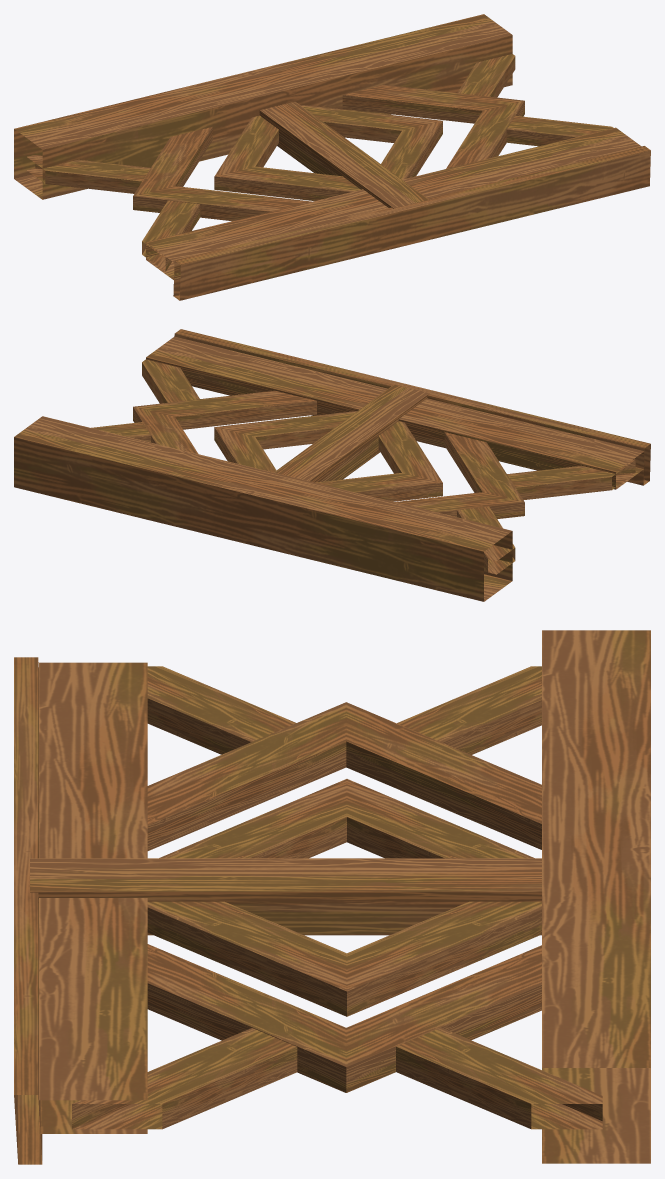
File: Balcony_Cross_Straight.fbx
3 renders of one model, top to bottom at view 1: azimuth 30°, elevation 25°; view 2: azimuth 150°, elevation 25°; view 3: azimuth 270°, elevation 25°, orthographic. The views are drawn at different scales.
Parts seen in each view (by area): view 1: Balcony_Cross_Straight; view 2: Balcony_Cross_Straight; view 3: Balcony_Cross_Straight.
Boxes of the visible parts, x1=… form: Balcony_Cross_Straight: x1=14, y1=14, x2=650, y2=300; Balcony_Cross_Straight: x1=14, y1=329, x2=650, y2=601; Balcony_Cross_Straight: x1=14, y1=630, x2=650, y2=1164.
Bounding box in the file's own units: 2 × 0.2063 × 1.23.
